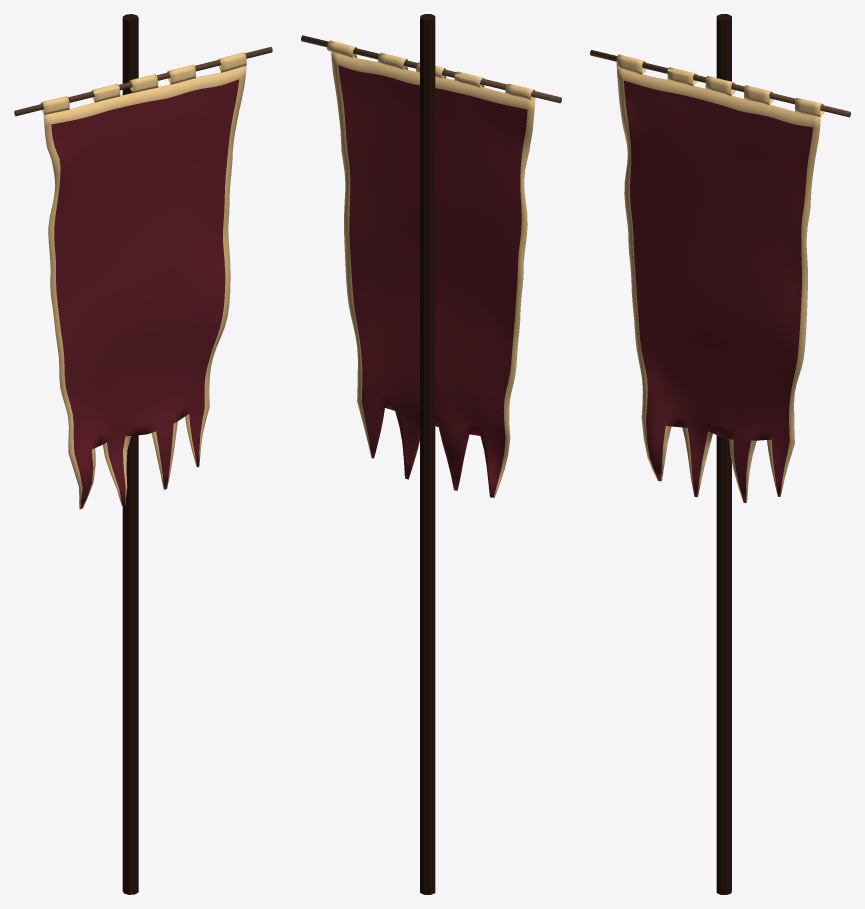
Rendered from Arazzo rosso.fbx.
3 renders of one model, left to right at view 1: azimuth 30°, elevation 25°; view 2: azimuth 150°, elevation 25°; view 3: azimuth 330°, elevation 25°, orthographic.
Parts seen in each view (by area): view 1: arazzo.013, Cylinder.025; view 2: arazzo.013, Cylinder.025; view 3: arazzo.013, Cylinder.025.
Boxes of the visible parts, left/top/right/bottom form: arazzo.013: left=14, top=47, right=272, bottom=509; Cylinder.025: left=122, top=14, right=138, bottom=894; arazzo.013: left=301, top=35, right=561, bottom=497; Cylinder.025: left=420, top=14, right=435, bottom=894; arazzo.013: left=590, top=50, right=850, bottom=502; Cylinder.025: left=716, top=14, right=731, bottom=894.
Size of the model in its own units: 277 by 899 by 32.64.
